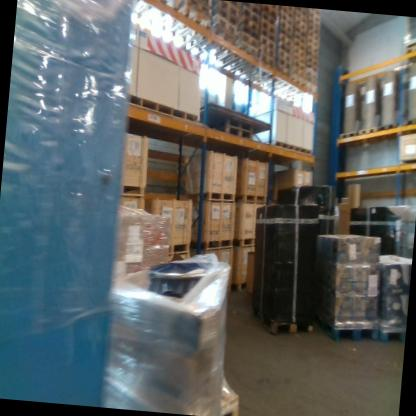pallet: (127, 89, 206, 129), (249, 298, 315, 340), (146, 3, 217, 41), (317, 310, 382, 349), (179, 21, 242, 60), (207, 38, 262, 78), (212, 371, 252, 416), (263, 137, 316, 162), (185, 183, 235, 207), (192, 230, 236, 257), (236, 54, 275, 81), (214, 127, 259, 149), (232, 190, 274, 213), (376, 319, 405, 345), (209, 116, 253, 133), (163, 232, 191, 256), (118, 179, 147, 201), (234, 233, 263, 255), (230, 276, 255, 296), (359, 124, 380, 144), (379, 120, 399, 140), (340, 128, 359, 144), (405, 42, 416, 66), (398, 154, 416, 168), (404, 112, 416, 124)
